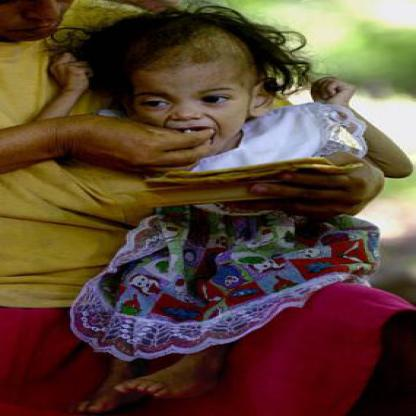face: (123, 34, 254, 156)
